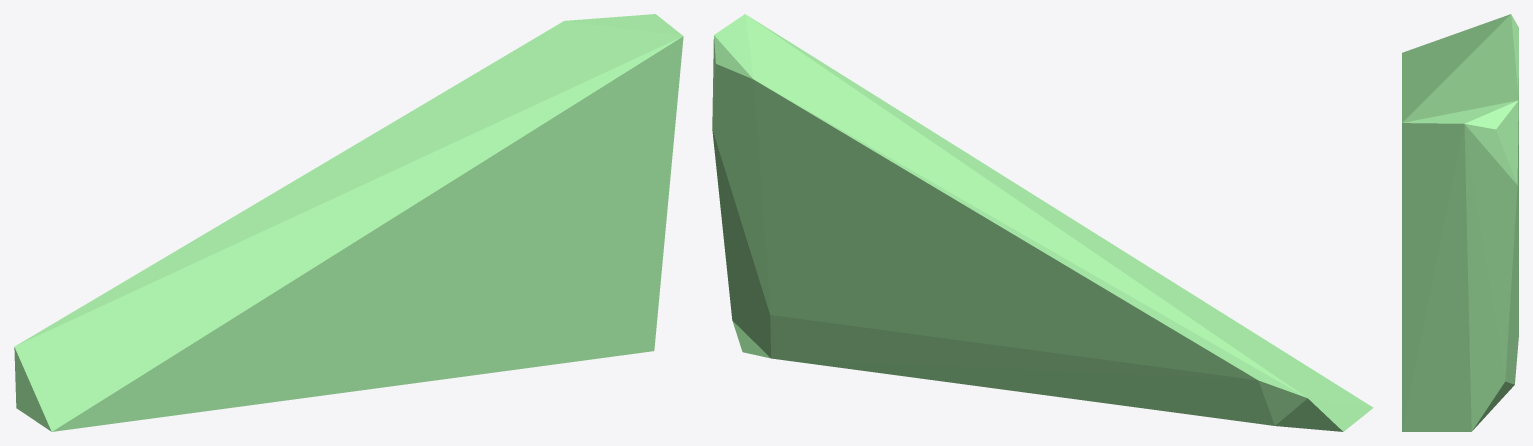
File: UMIRobot_robot_base_coll_9.dae
3 renders of one model, left to right at view 1: azimuth 30°, elevation 25°; view 2: azimuth 150°, elevation 25°; view 3: azimuth 270°, elevation 25°, orthographic. The views are drawn at different scales.
Parts seen in each view (by area): view 1: node; view 2: node; view 3: node.
Boxes of the visible parts, x1,y1,x2,y2 form: node: [14, 14, 683, 431]; node: [712, 14, 1373, 431]; node: [1402, 14, 1518, 431].
Bounding box in the file's own units: 0.0423 × 0.0196 × 0.0064.
